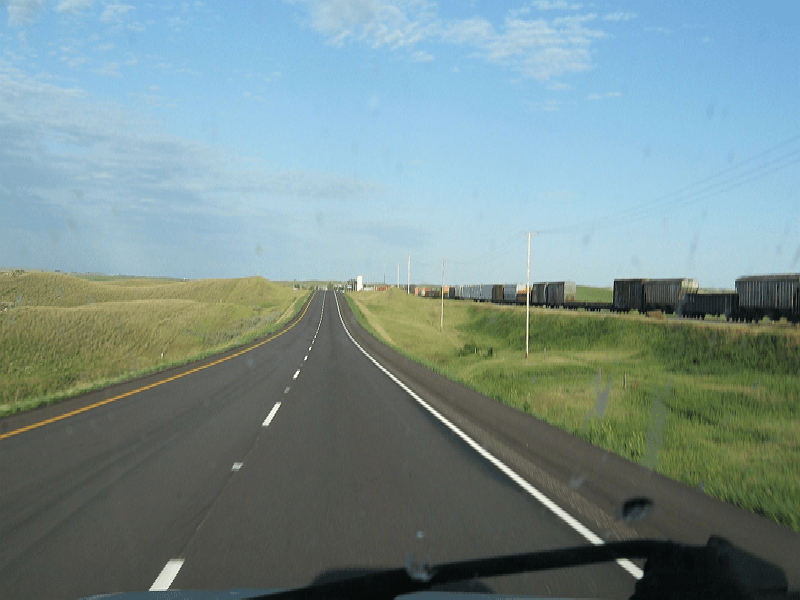lane: (387, 372, 567, 514), (260, 401, 282, 427), (292, 367, 301, 382)
